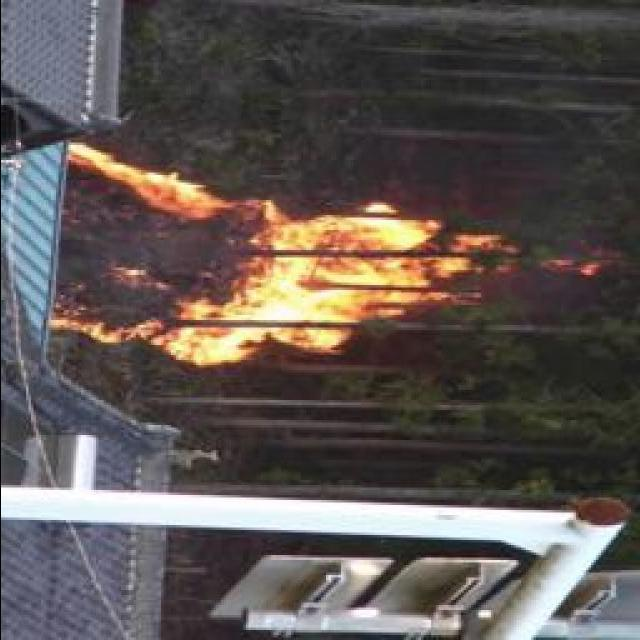Fire: (61, 162, 492, 364)
